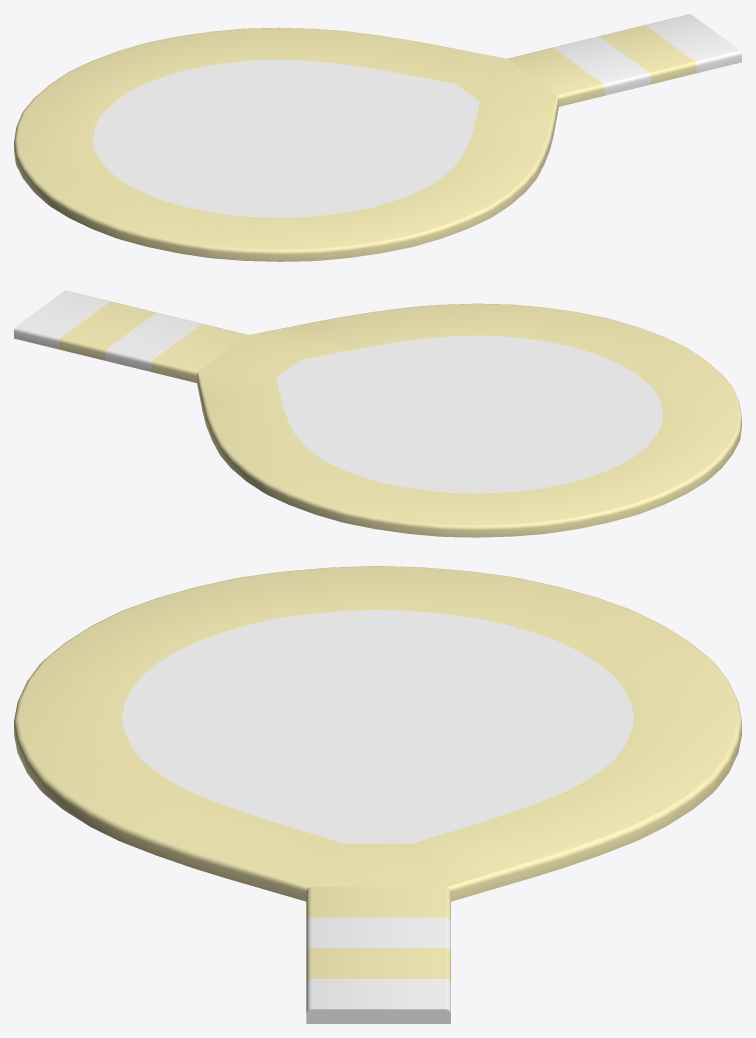
File: FinishCircle_yellow.fbx
3 renders of one model, top to bottom at view 1: azimuth 30°, elevation 25°; view 2: azimuth 150°, elevation 25°; view 3: azimuth 270°, elevation 25°, orthographic. The views are drawn at different scales.
Parts seen in each view (by area): view 1: FinishCircle_yellow; view 2: FinishCircle_yellow; view 3: FinishCircle_yellow.
Part boxes in pixels (x1,y1,x2,y2): FinishCircle_yellow: [14, 14, 741, 261]; FinishCircle_yellow: [14, 290, 741, 537]; FinishCircle_yellow: [14, 566, 741, 1023].
Size of the model in its own units: 2184 by 33.69 by 1510.
1 material, 1 textured.
